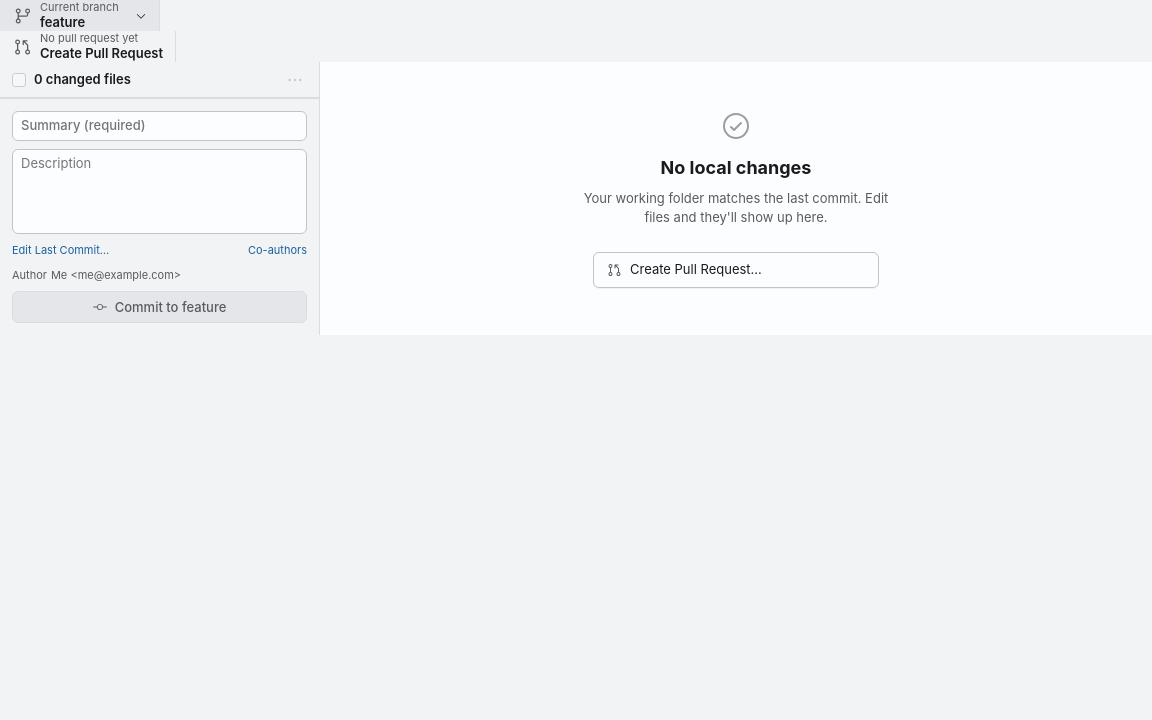
suggesting a pull request › offers one in the toolbar and on the empty changes view
The width and height of the screenshot is (1152, 720).
Check: the button "Create Pull Request…" is shown, box x1=593 y1=252 x2=879 y2=288
Click the button "No pull request yet Create Pull Request" at (88, 47), box x1=0 y1=31 x2=176 y2=62
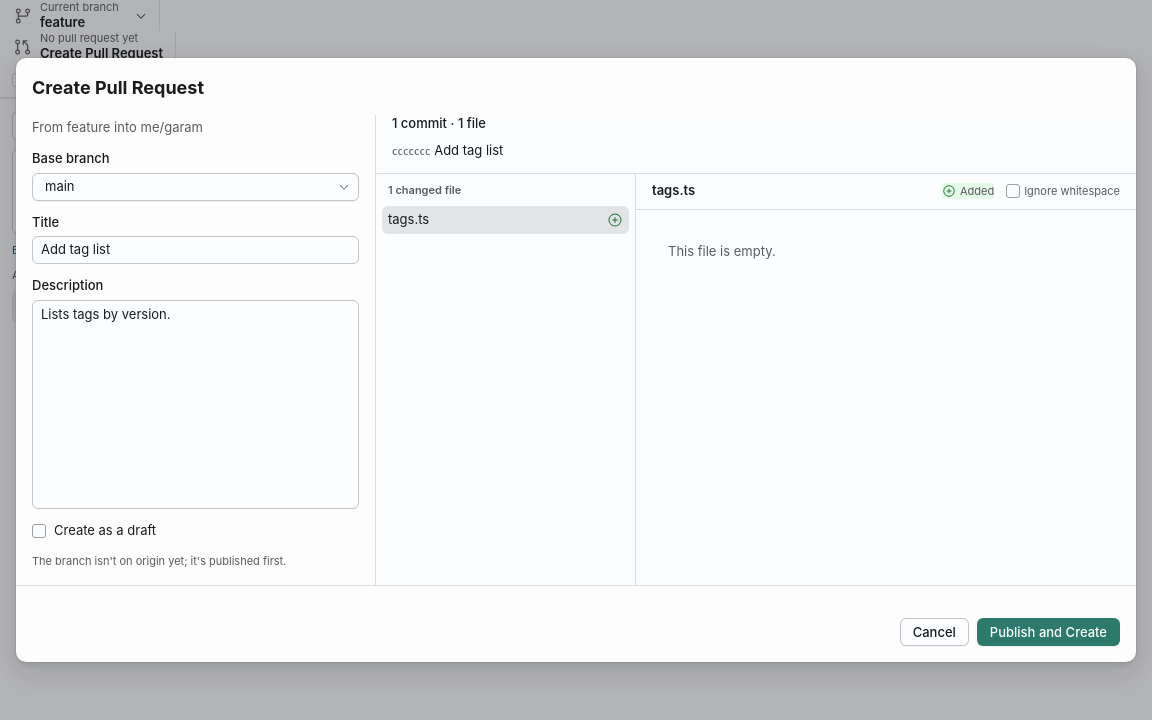
Check: the dialog "Create Pull Request" is shown
